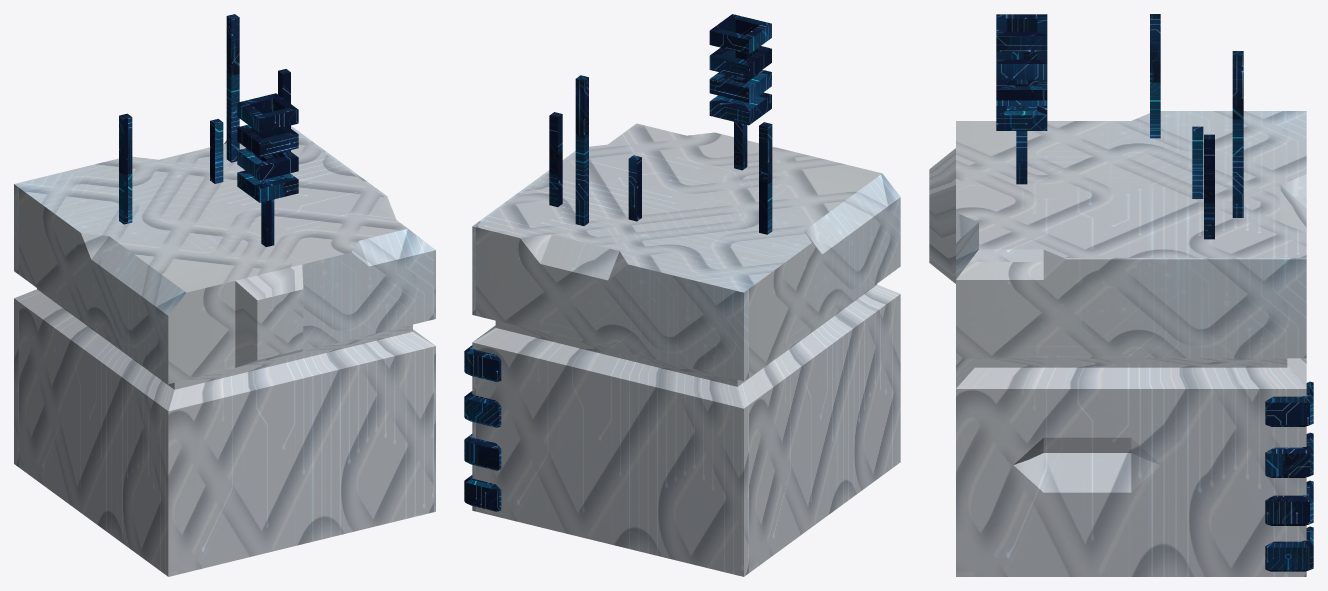
File: Block03.fbx
3 views of the same model, side by side, from view 1: azimuth 30°, elevation 25°; view 2: azimuth 150°, elevation 25°; view 3: azimuth 270°, elevation 25° (orthographic). The views are drawn at different scales.
Parts seen in each view (by area): view 1: Circle.001; view 2: Circle.001; view 3: Circle.001.
Boxes of the visible parts, box(x1,y1,x2,y2) form: Circle.001: box(14, 14, 435, 576); Circle.001: box(464, 14, 900, 576); Circle.001: box(929, 14, 1313, 576).
Size of the model in its own units: 205 by 219 by 302.
